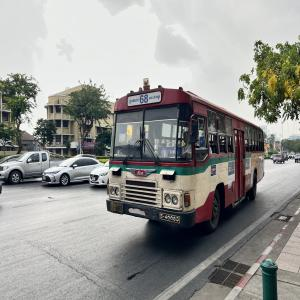BMTA-bus: (106, 87, 266, 234)
Bus Line Number: (127, 93, 161, 107)
Bus Side Number: (160, 212, 180, 224)
Destination Sign: (157, 145, 183, 159)
